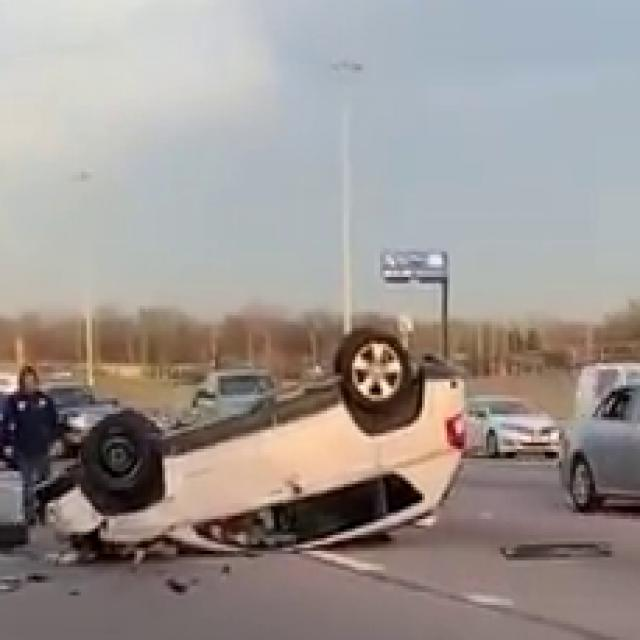accident: (42, 318, 474, 568)
